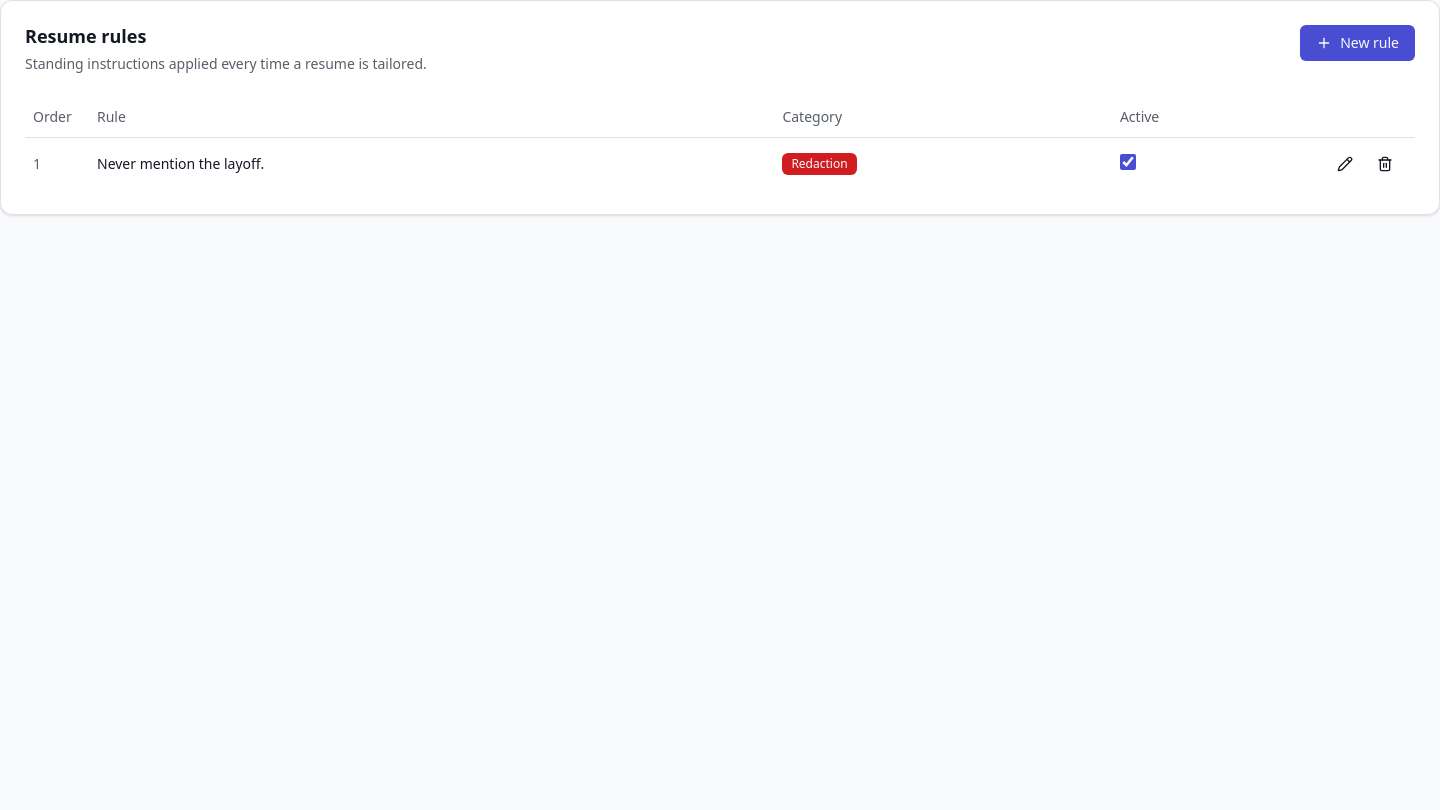
it: ResumeRulesSettings delete (issue #74) › deletes only after confirmation, and closes the dialog once the server has actually removed it
Click the button named "Delete rule 1": point(1385, 164) x1=1367 y1=146 x2=1403 y2=182
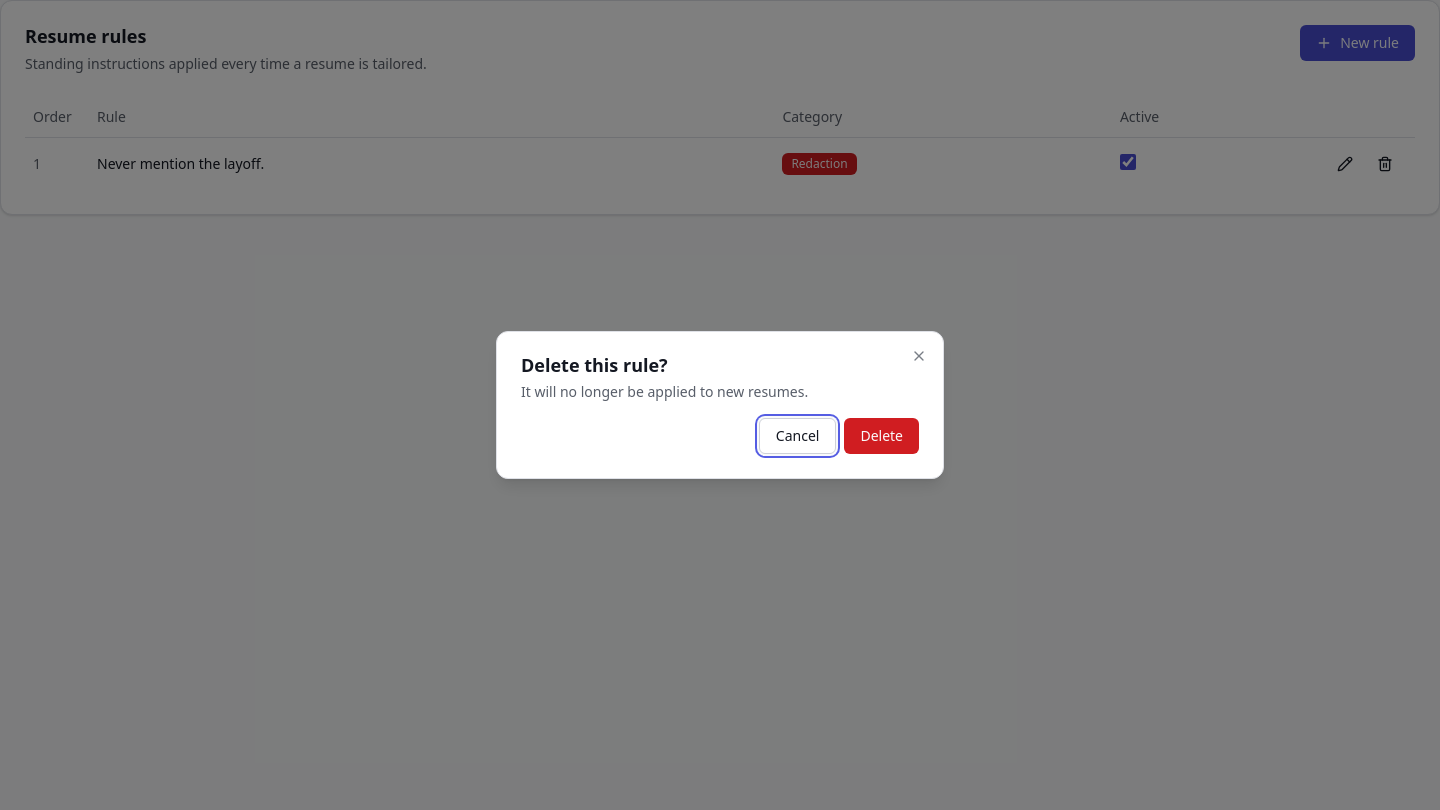
Click the button "Delete": point(882, 436) x1=844 y1=418 x2=919 y2=454
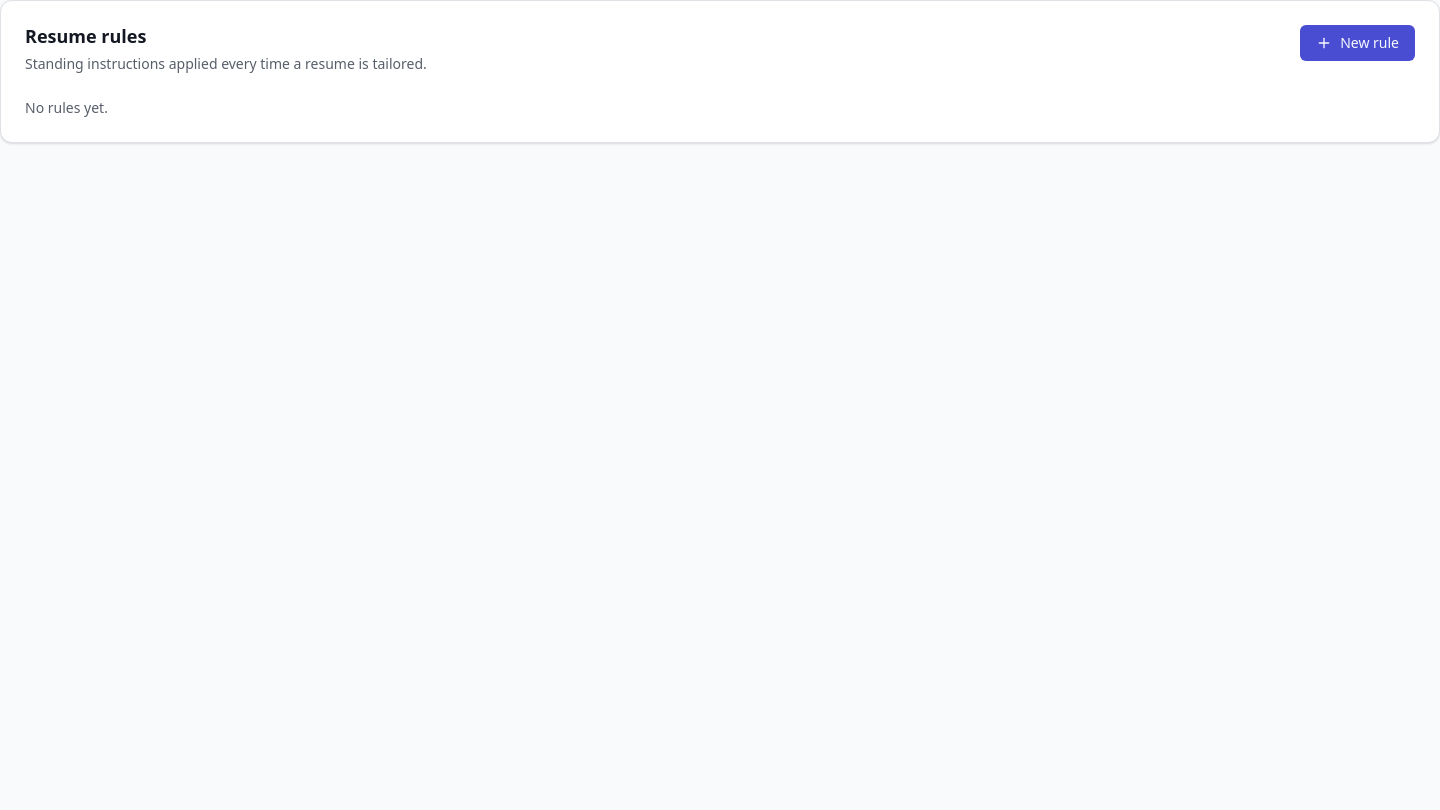
Check: the text "No rules yet." is shown, box x1=25 y1=98 x2=108 y2=116
Check: the dialog is gone
